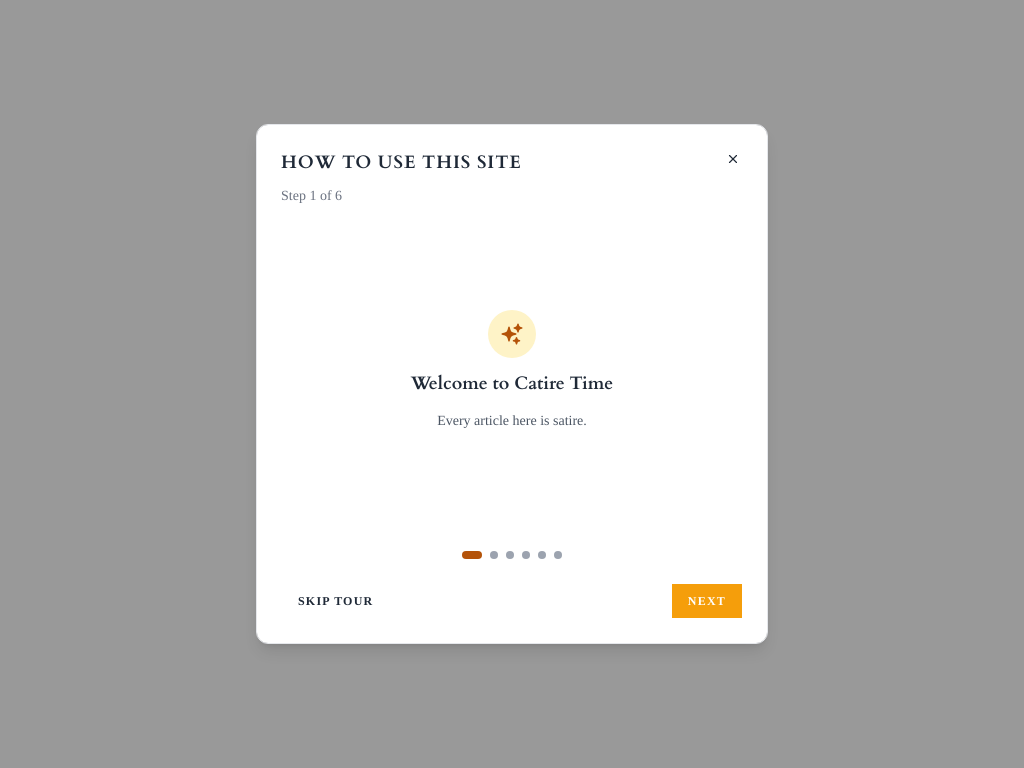
Scenario: OnboardingTour — navigation › shows Finish instead of Next on the last slide
Step 1. Click the button named "Go to step" → (558, 555), box [554,551,562,559]
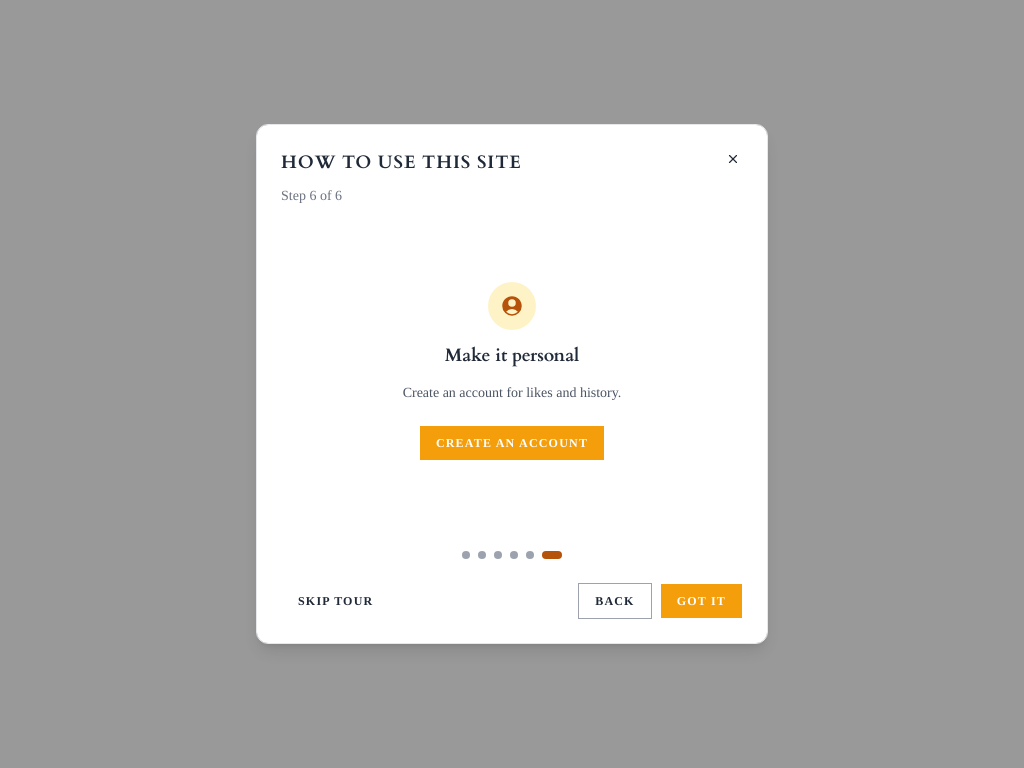
Result: the button "Got it" is shown at [660,583,743,619]
Result: the button "Next" is gone
